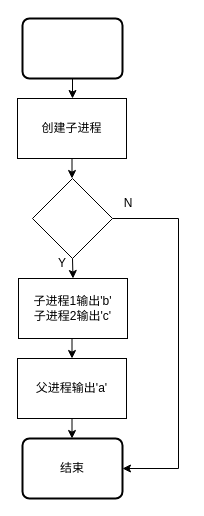
The diagram is 204 pixels wide and 516 high, and some of its shapes have lost their labels. Here are the shapes that lost their labels. From the top down, the centre of each, then its label:
the point at 72,48: test2.1 & test2.2
the point at 72,218: 是否创建成功
